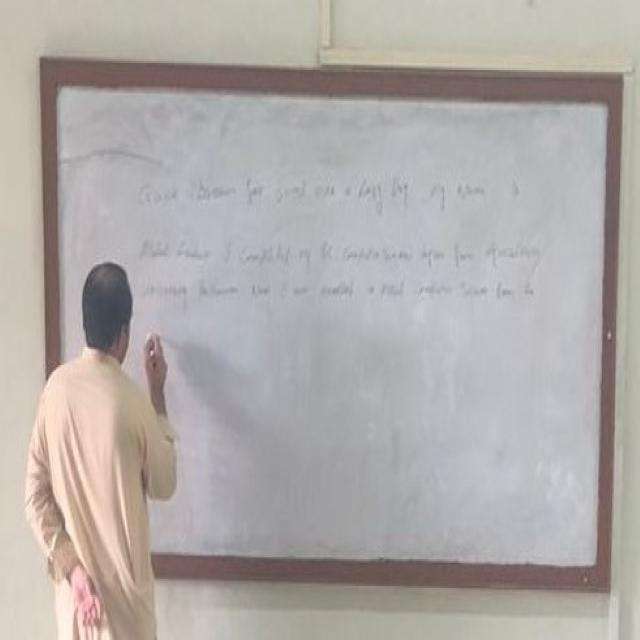Instructor: (46, 253, 152, 619)
White-board: (50, 67, 616, 580)
